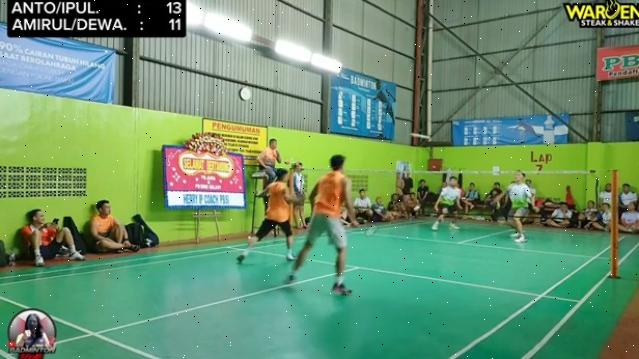Shuttlecock: (408, 130, 433, 144)
